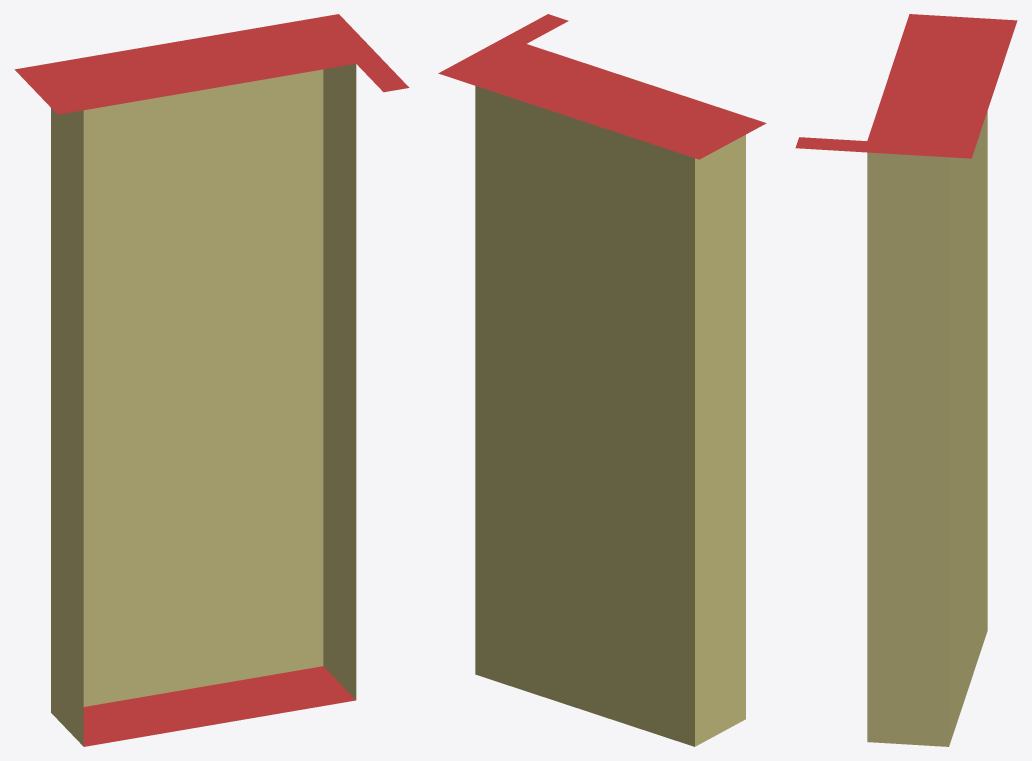
3 views of the same model, side by side, from view 1: azimuth 30°, elevation 25°; view 2: azimuth 150°, elevation 25°; view 3: azimuth 270°, elevation 25° (orthographic). The views are drawn at different scales.
Bounding box in the file's own units: 6.45 × 4.19 × 12.5.
